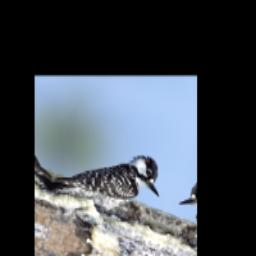Woodpecker: (44, 127, 173, 250)
